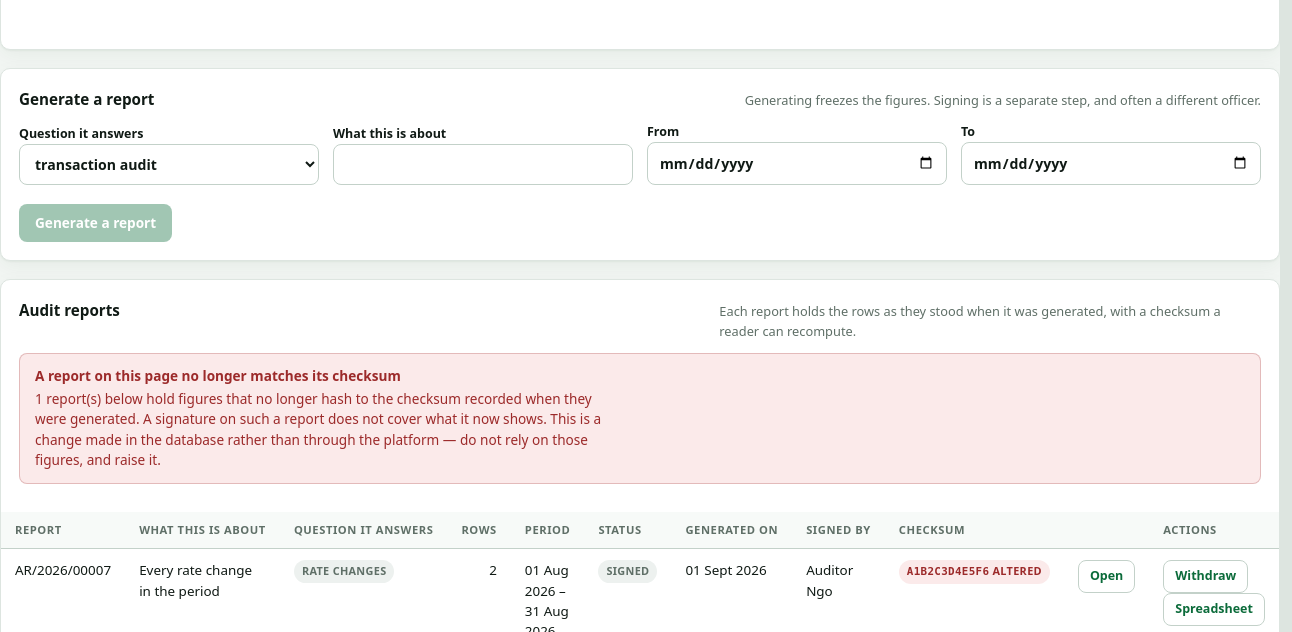
Test: opening one that is intact › says the rows still hash to what was recorded
(page scrolled)
Click the button "Open".
click(1107, 577)  # box [1078, 560, 1135, 593]
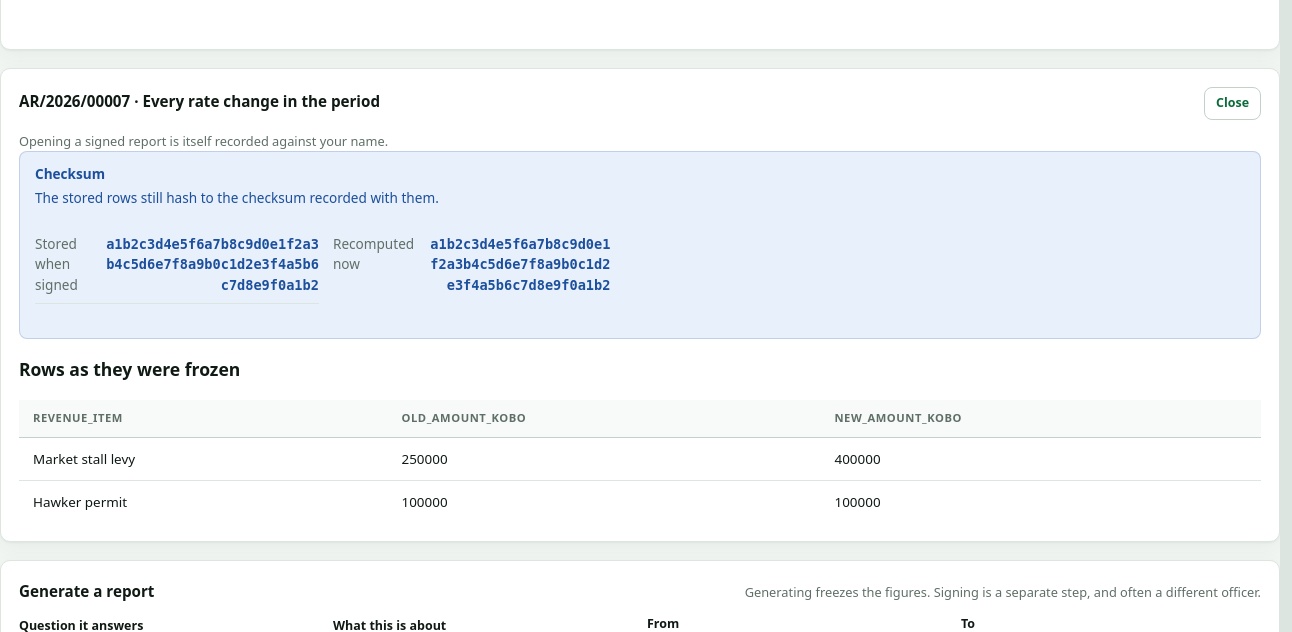
Result: the text "The stored rows still hash to the checksum recorded with them." is shown at [35, 188, 439, 207]
